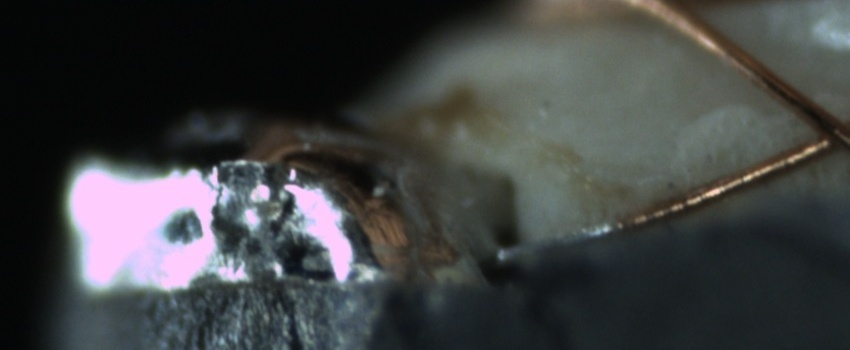CL: (793, 97, 850, 161)
TS: (488, 214, 616, 264)
